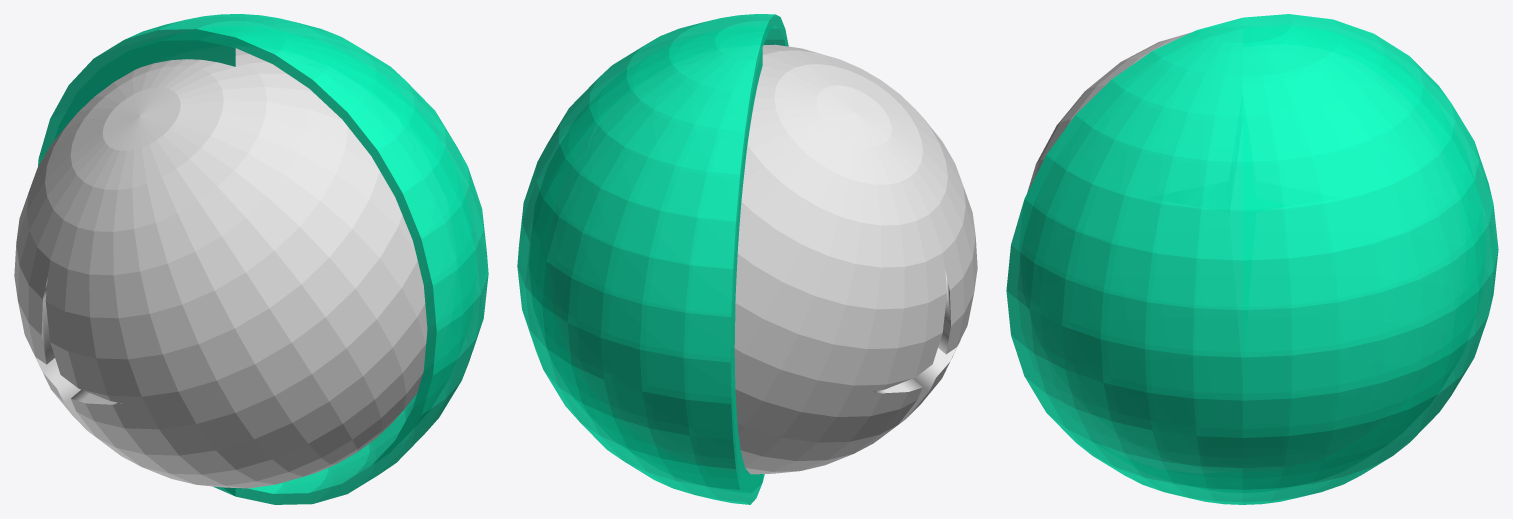
The model's file is Hyacinth_Sphere.fbx.
The picture shows the model from 3 angles, left to right: view 1: azimuth 30°, elevation 25°; view 2: azimuth 150°, elevation 25°; view 3: azimuth 270°, elevation 25°; orthographic projection. The views are drawn at different scales.
Parts seen in each view (by area): view 1: Sphere.001, Sphere; view 2: Sphere, Sphere.001; view 3: Sphere, Sphere.001.
Boxes of the visible parts, x1,y1,x2,y2 form: Sphere.001: [14, 48, 427, 488]; Sphere: [38, 14, 488, 504]; Sphere: [517, 14, 788, 504]; Sphere.001: [734, 44, 977, 474]; Sphere: [1006, 14, 1498, 504]; Sphere.001: [1027, 32, 1190, 193].
Bounding box in the file's own units: 323 × 345 × 332.
